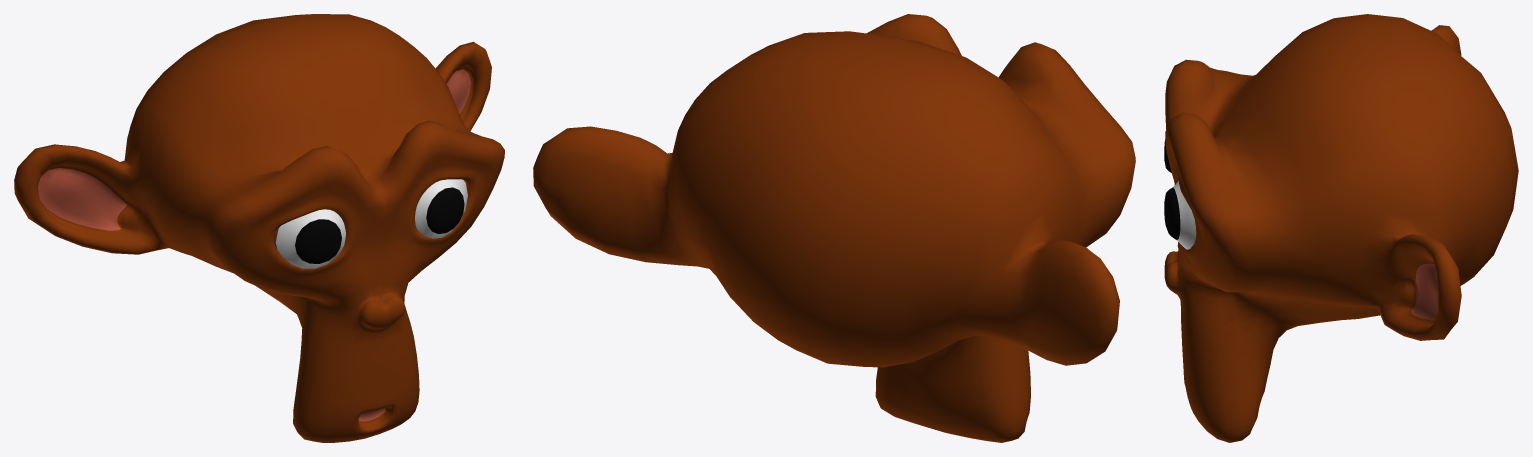
Rendered from suzanne.glb.
3 views of the same model, side by side, from view 1: azimuth 30°, elevation 25°; view 2: azimuth 150°, elevation 25°; view 3: azimuth 270°, elevation 25° (orthographic). The views are drawn at different scales.
Visible parts, largest first — view 1: Suzanne; view 2: Suzanne; view 3: Suzanne.
Boxes of the visible parts, x1,y1,x2,y2 form: Suzanne: (14, 14, 504, 442); Suzanne: (533, 14, 1135, 442); Suzanne: (1164, 14, 1518, 442).
Bounding box in the file's own units: 2.65 × 1.91 × 1.6.
